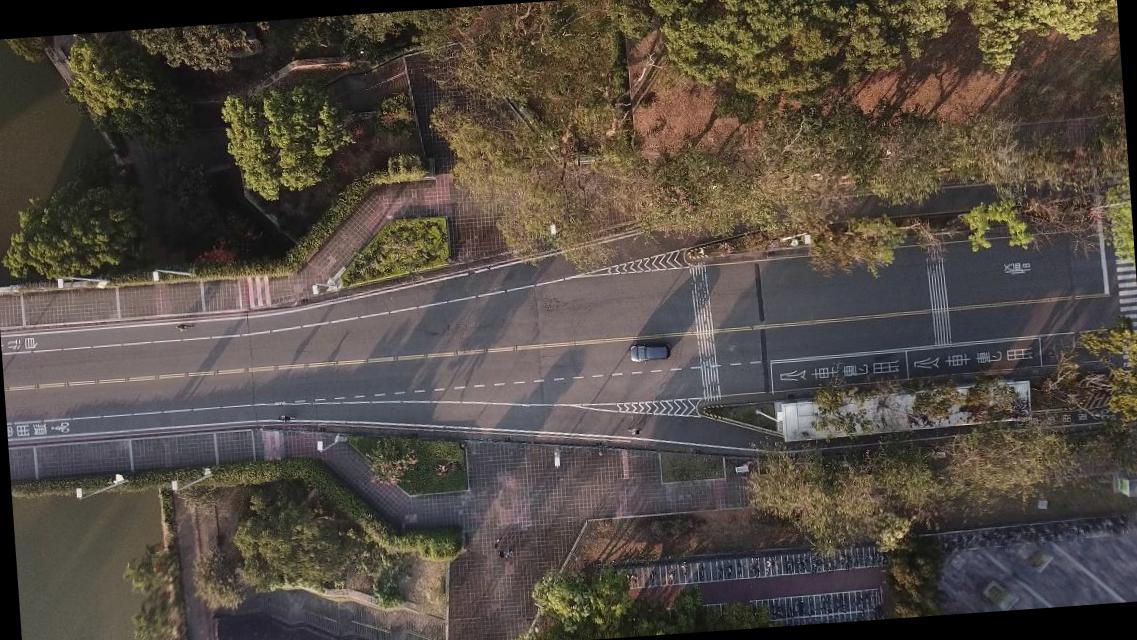vehicle: (628, 341, 670, 363)
